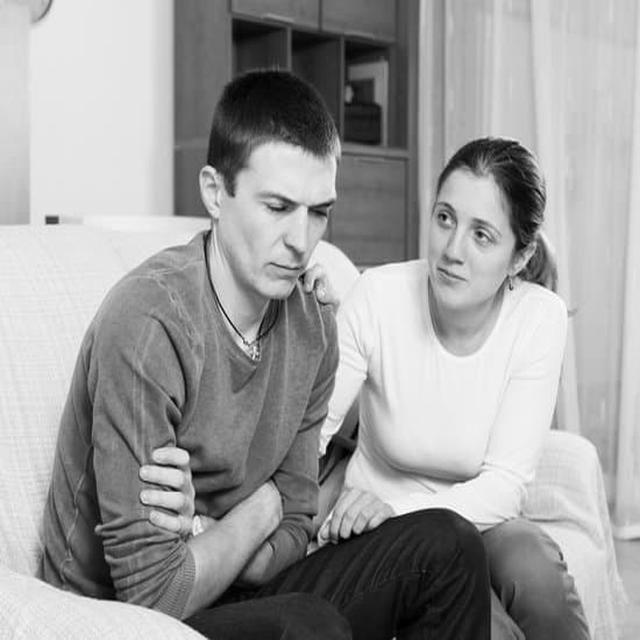Sadness: (252, 146, 336, 299)
